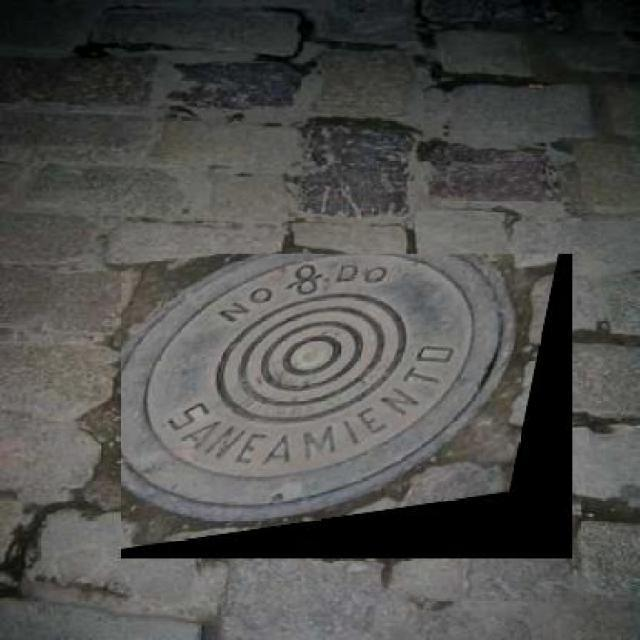Manhole: (120, 253, 572, 558)
